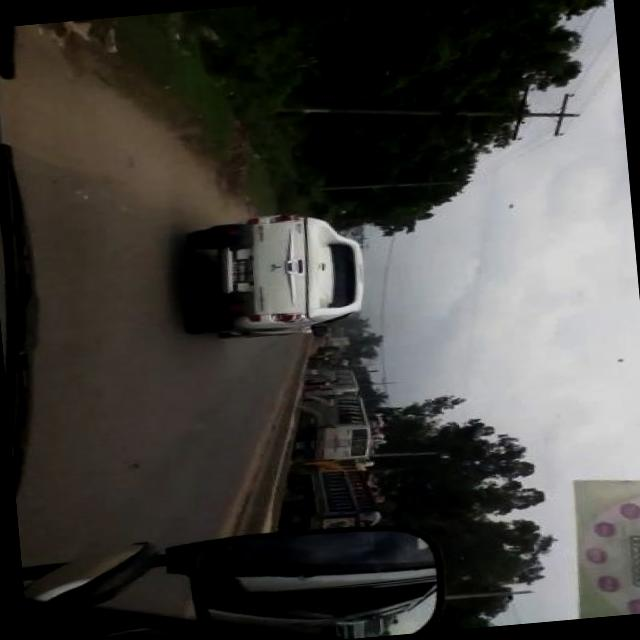bus: (289, 392, 379, 468)
car: (174, 206, 374, 350)
truck: (281, 456, 383, 534)
